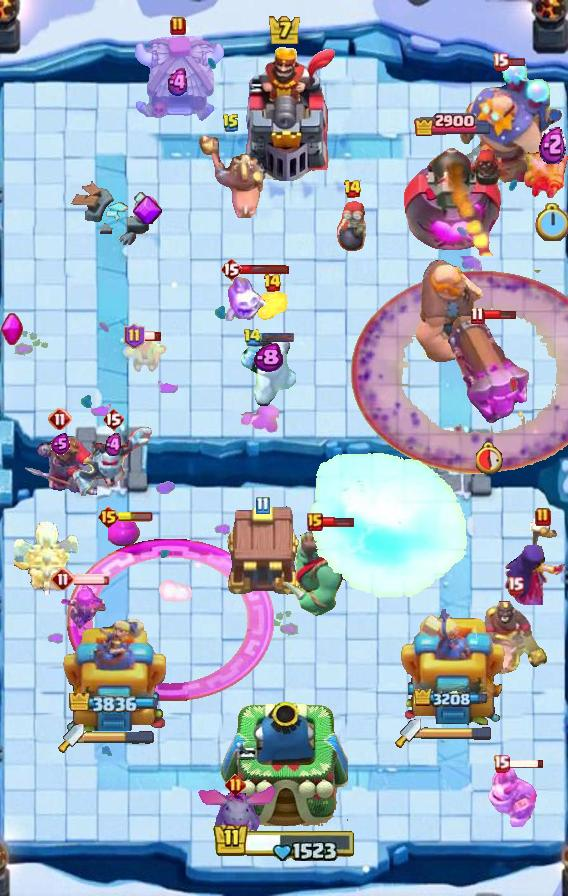axe: (504, 517, 568, 605)
balloon: (412, 256, 486, 364)
bar: (401, 601, 505, 731), (61, 615, 166, 731)
bomb: (222, 503, 302, 597)
clock: (212, 819, 356, 861)
electro-spirit: (539, 124, 565, 163), (253, 343, 283, 373), (164, 68, 191, 97), (51, 433, 70, 455), (105, 433, 122, 457)
electro-wizard: (194, 784, 276, 846)
elixir: (536, 203, 568, 241), (476, 442, 504, 475)
elixir-golem-big: (21, 428, 99, 500)
elixir-golem-small: (70, 424, 156, 502), (486, 767, 540, 827)
emote: (240, 264, 290, 275), (73, 573, 111, 585), (483, 309, 518, 321), (507, 759, 544, 770), (259, 332, 295, 343), (321, 516, 354, 528), (117, 512, 153, 522), (142, 330, 162, 342), (507, 57, 526, 67)
evolution-symbol: (56, 582, 106, 632)
freeze: (479, 599, 551, 677), (199, 134, 263, 220)
furnace: (447, 311, 533, 435)
ice-golem: (335, 196, 369, 252)
ice-spirit-evolution: (254, 291, 290, 323)
king-tower: (220, 702, 348, 827), (230, 45, 338, 181)
king-tower-bar: (421, 726, 493, 740), (84, 731, 154, 745)
knight-evolution: (67, 538, 274, 701)
lava-hound: (278, 526, 372, 620)
little-prince: (457, 58, 565, 184)
mega-knight: (306, 452, 472, 602)
miner: (108, 516, 140, 546)
mini-pekka: (14, 515, 80, 601)
mirror: (224, 274, 266, 324)
prince: (131, 34, 225, 124)
rage: (240, 338, 296, 410)
rocket: (352, 270, 568, 474)
selected: (413, 112, 493, 137), (68, 693, 160, 713), (414, 689, 494, 711)
skeleton-king-skill: (132, 196, 162, 224), (0, 312, 24, 346)
text: (48, 407, 72, 431), (51, 567, 75, 591), (97, 505, 120, 529), (123, 323, 144, 349), (220, 257, 242, 281), (102, 407, 124, 431), (225, 773, 247, 795), (342, 179, 361, 199), (262, 273, 281, 293), (222, 113, 240, 133), (242, 329, 262, 347), (493, 755, 511, 774), (492, 52, 509, 71), (170, 16, 186, 36), (535, 507, 551, 527), (508, 577, 525, 595), (307, 513, 323, 531), (470, 307, 485, 326), (255, 497, 270, 515)
tombstone: (522, 141, 568, 203)
tower-bar: (404, 138, 505, 256)
zap: (123, 333, 169, 375)
